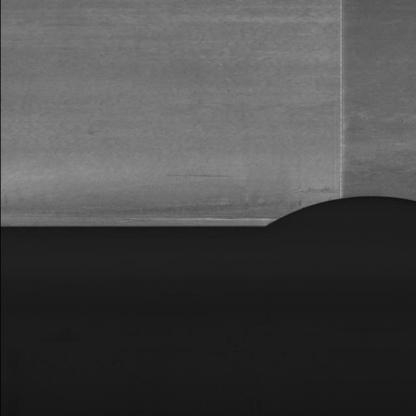crescent_gap: (245, 189, 415, 251)
welding_line: (324, 0, 355, 206)
